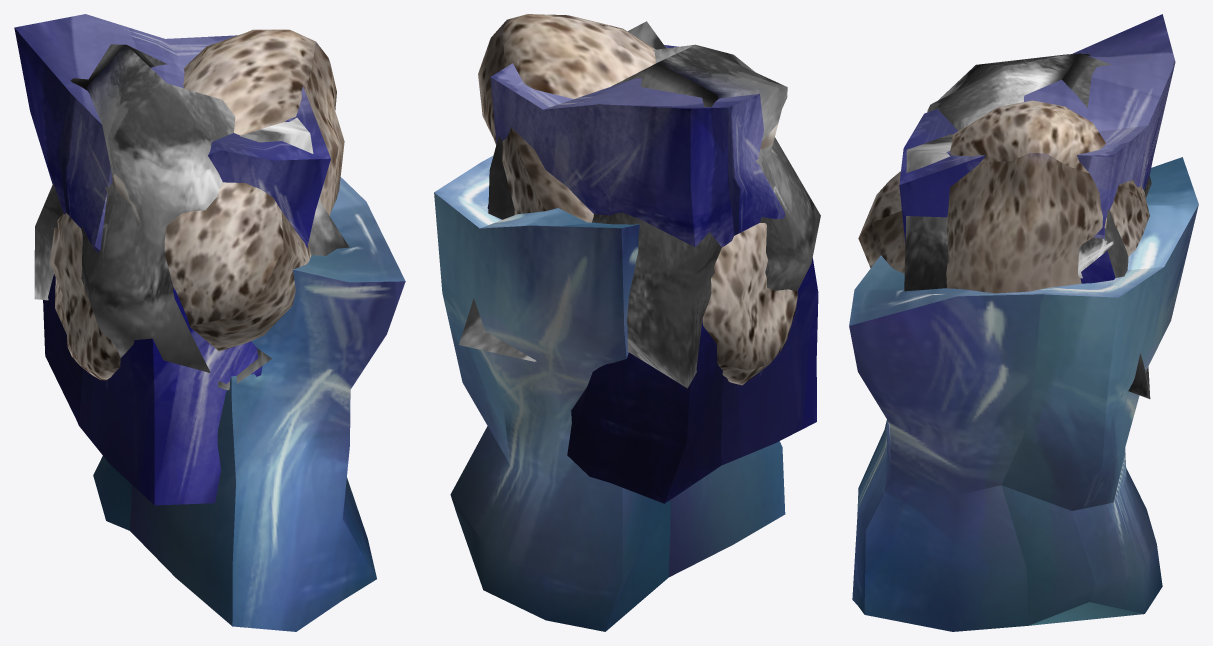
The model's file is PedrasSpeed.fbx.
3 views of the same model, side by side, from view 1: azimuth 30°, elevation 25°; view 2: azimuth 150°, elevation 25°; view 3: azimuth 270°, elevation 25° (orthographic). The views are drawn at different scales.
Parts seen in each view (by area): view 1: Safira, PedraPomes, Aluminio; view 2: Safira, Aluminio, PedraPomes; view 3: Safira, PedraPomes, Aluminio.
Boxes of the visible parts, x1,y1,x2,y2 form: Safira: (14,14,405,631); PedraPomes: (49,29,344,380); Aluminio: (34,44,349,390); Safira: (434,45,818,631); Aluminio: (459,21,820,388); PedraPomes: (478,14,797,385); Safira: (849,14,1198,631); PedraPomes: (858,100,1149,293); Aluminio: (904,53,1151,398).
Size of the model in its own units: 265 by 478 by 290.
